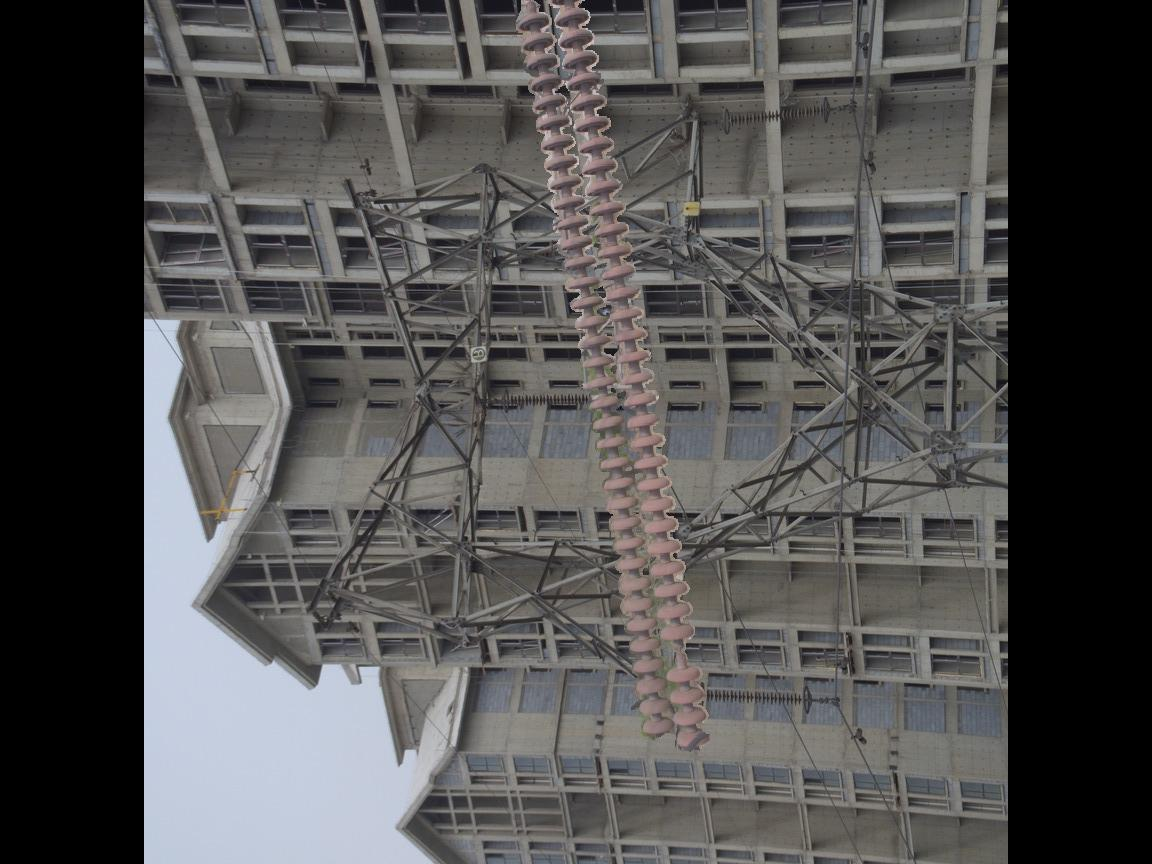insulator: (509, 1, 718, 754), (497, 383, 591, 416), (704, 681, 808, 708)
insulator_stringdrop: (655, 620, 704, 687)
